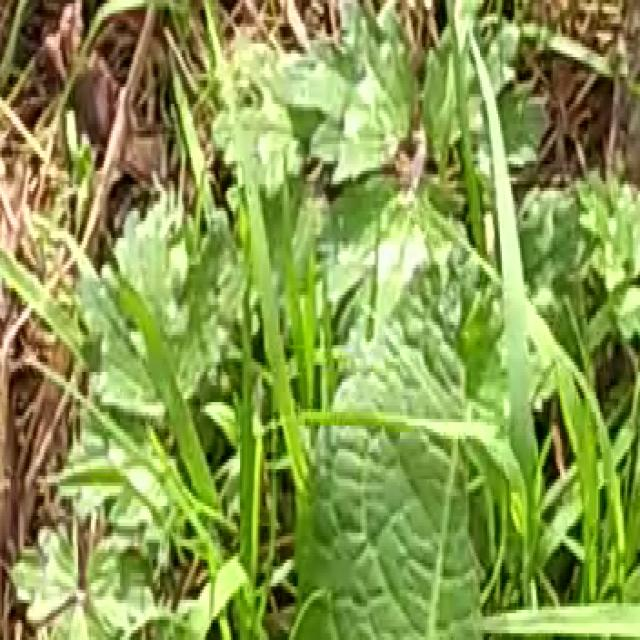organic waste: (191, 201, 540, 640)
